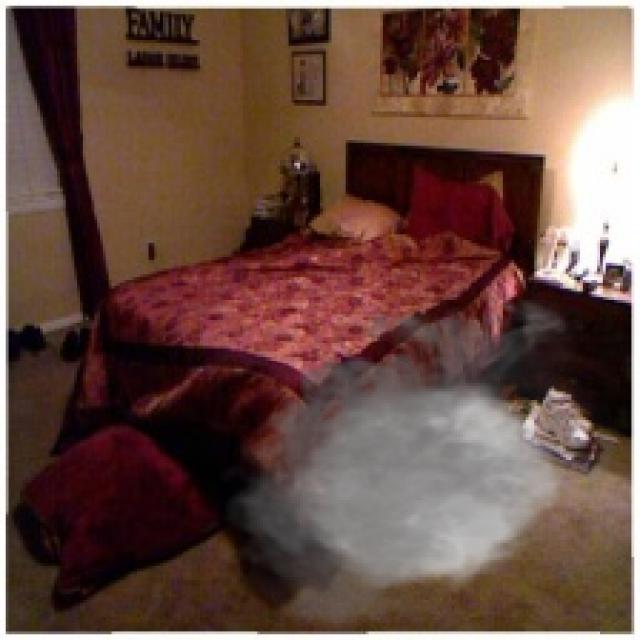smoke: (211, 289, 640, 637)
